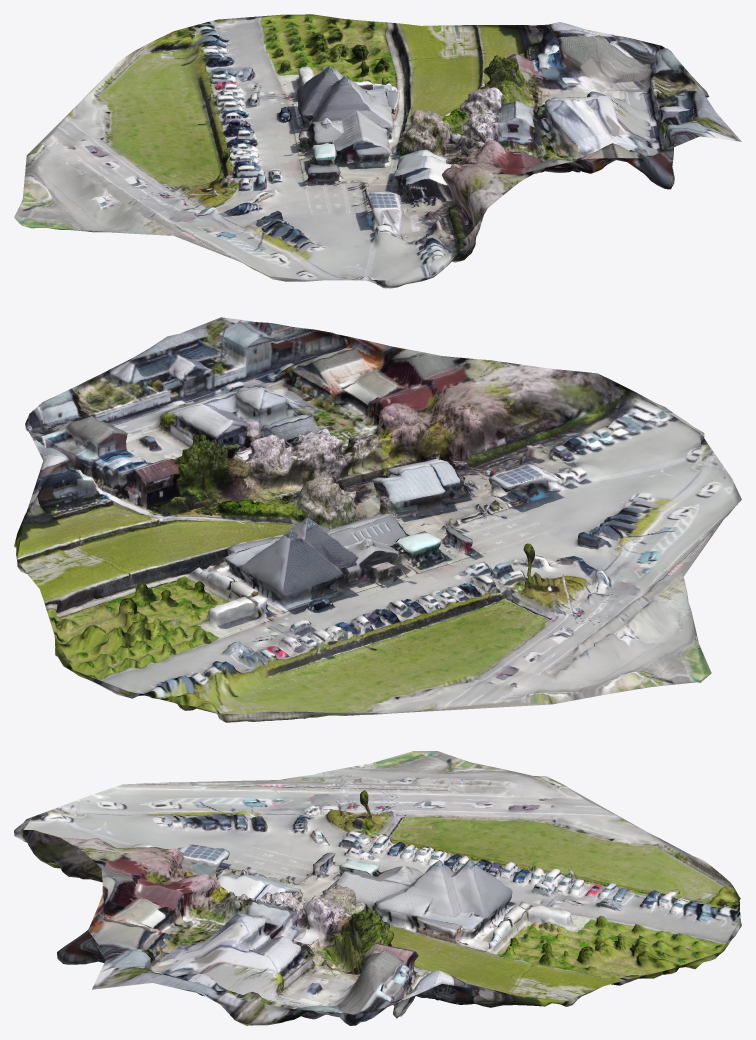
File: kamiyama-michinoeki.glb
The picture shows the model from 3 angles, top to bottom: view 1: azimuth 30°, elevation 25°; view 2: azimuth 150°, elevation 25°; view 3: azimuth 270°, elevation 25°; orthographic projection. The views are drawn at different scales.
Parts seen in each view (by area): view 1: baked_mesh; view 2: baked_mesh; view 3: baked_mesh.
Part boxes in pixels (x1=…): baked_mesh: x1=14, y1=14, x2=741, y2=288; baked_mesh: x1=14, y1=317, x2=741, y2=722; baked_mesh: x1=14, y1=751, x2=741, y2=1025.
Size of the model in its own units: 2.04 by 0.2541 by 1.97.
1 material, 1 textured.
